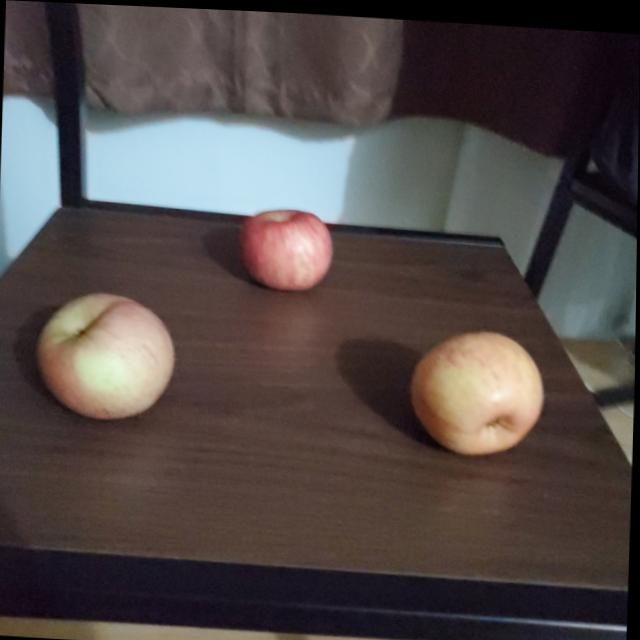apple: (36, 291, 179, 428), (410, 322, 546, 452), (239, 203, 334, 286)
